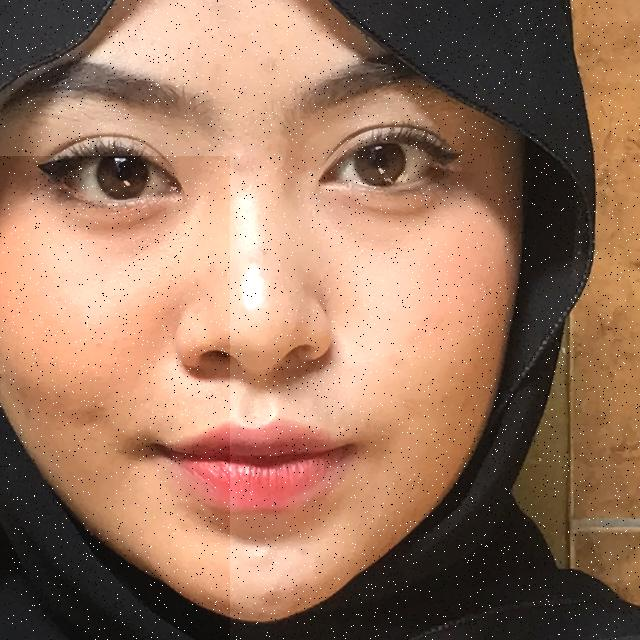ibu: (0, 156, 230, 640)
